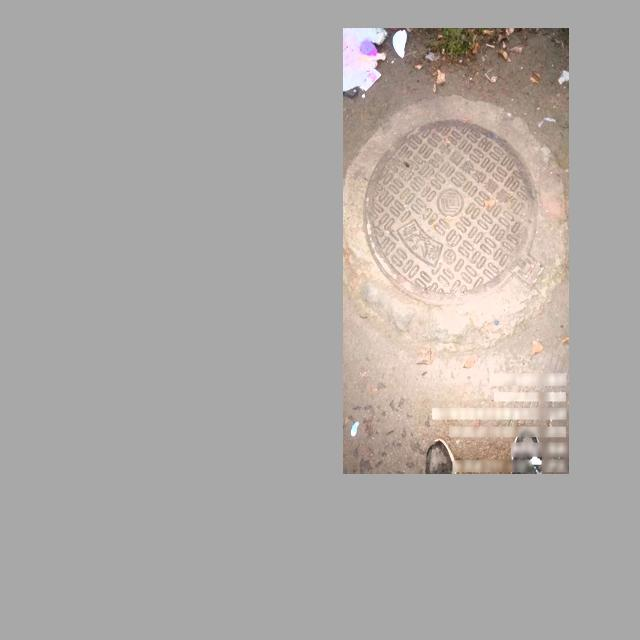good: (346, 100, 560, 336)
